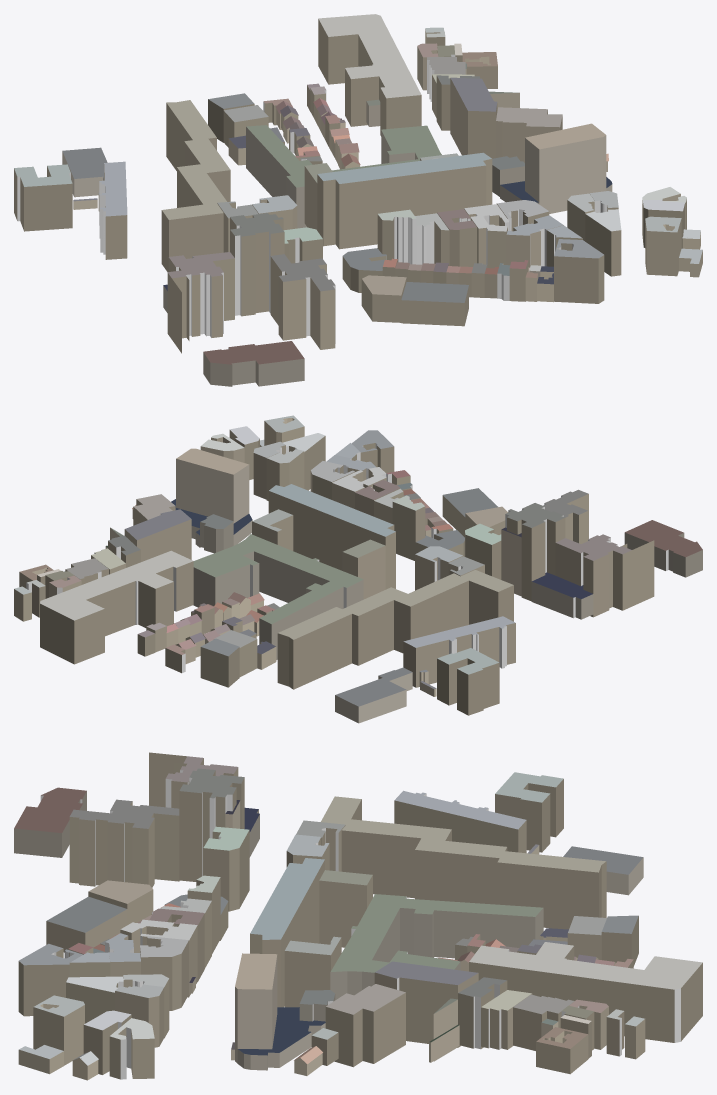
The picture shows the model from 3 angles, top to bottom: view 1: azimuth 30°, elevation 25°; view 2: azimuth 150°, elevation 25°; view 3: azimuth 270°, elevation 25°; orthographic projection. The views are drawn at different scales.
Parts seen in each view (by area): view 1: tuile; view 2: tuile; view 3: tuile.
Part boxes in pixels (left/top/right/bottom): tuile: left=14, top=14, right=702, bottom=386; tuile: left=14, top=415, right=702, bottom=723; tuile: left=14, top=752, right=702, bottom=1080.
Bounding box in the file's own units: 278 × 44.37 × 288.
